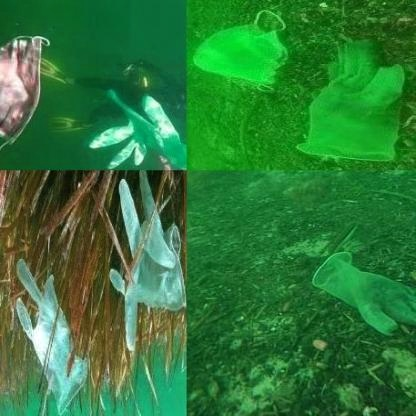Mask: (190, 8, 291, 93), (0, 22, 51, 169)
glove: (110, 170, 186, 354), (303, 38, 407, 164), (16, 252, 90, 414), (311, 250, 415, 343), (84, 83, 186, 169)
